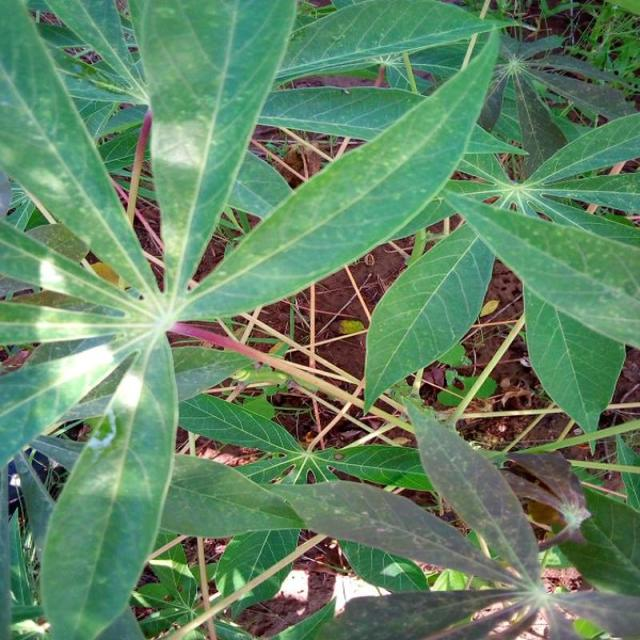cassava leaf: (1, 0, 637, 638), (177, 18, 501, 322), (0, 0, 160, 301), (362, 219, 495, 415)
